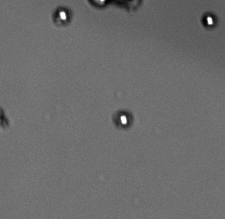Living Cell: (51, 5, 77, 27), (111, 106, 134, 129), (200, 11, 219, 29), (84, 1, 113, 8)
